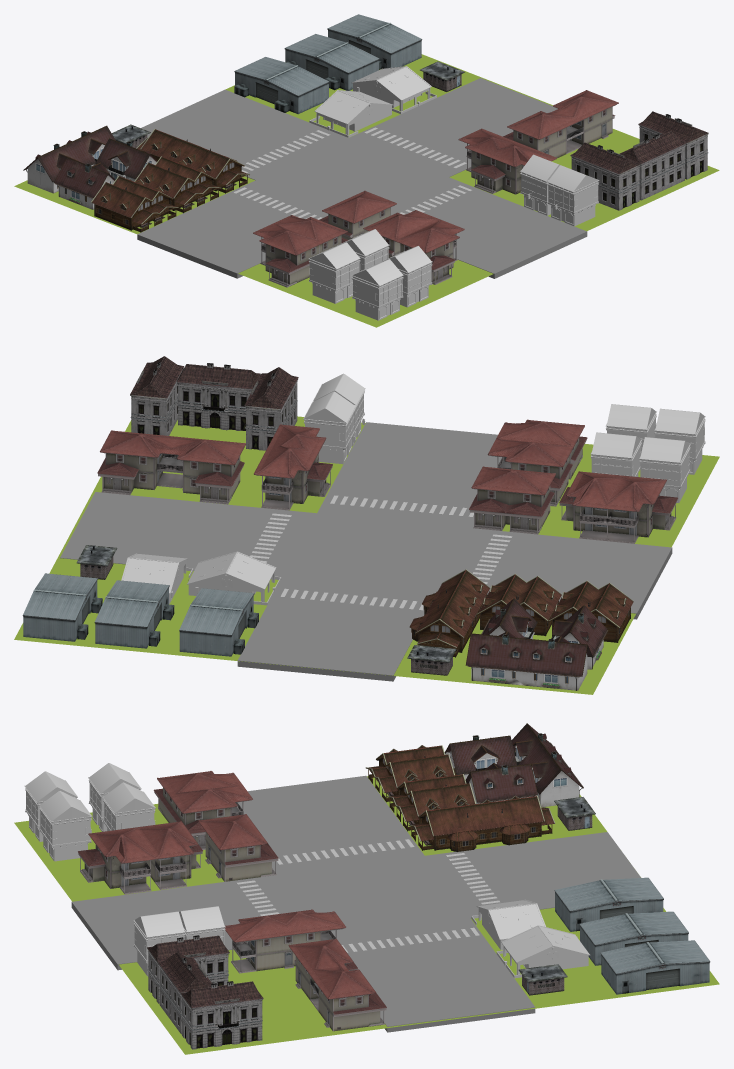
Rendered from street.fbx.
3 views of the same model, one above another, from view 1: azimuth 30°, elevation 25°; view 2: azimuth 150°, elevation 25°; view 3: azimuth 270°, elevation 25° (orthographic). The views are drawn at different scales.
Parts seen in each view (by area): view 1: Line002, Plane001, City_building_026, City_building_038, City_building_007, City_building_022, City_building_034, City_building_011, City_building_004, City_building_023, City_building_010, City_building_014 (+18 smaller); view 2: Line002, Plane001, City_building_026, City_building_038, City_building_033, City_building_034, City_building_022, City_building_037, City_building_016, City_building_007, City_building_023, City_building_011 (+18 smaller); view 3: Line002, Plane001, City_building_022, City_building_014, City_building_026, City_building_017, City_building_034, City_building_023, City_building_038, City_building_007, City_building_037, City_building_011 (+18 smaller).
Part boxes in pixels (x1=…): Line002: x1=137, y1=78, x2=587, y2=278; Plane001: x1=14, y1=54, x2=719, y2=327; City_building_026: x1=503, y1=90, x2=618, y2=158; City_building_038: x1=253, y1=215, x2=348, y2=287; City_building_007: x1=234, y1=57, x2=329, y2=114; City_building_022: x1=363, y1=210, x2=464, y2=284; City_building_034: x1=458, y1=128, x2=556, y2=194; City_building_011: x1=284, y1=34, x2=379, y2=90; City_building_004: x1=91, y1=176, x2=178, y2=232; City_building_023: x1=327, y1=14, x2=422, y2=69; City_building_010: x1=570, y1=142, x2=640, y2=210; City_building_014: x1=136, y1=129, x2=249, y2=193; Line002: x1=60, y1=422, x2=672, y2=681; Plane001: x1=14, y1=416, x2=719, y2=694; City_building_026: x1=97, y1=430, x2=245, y2=504; City_building_038: x1=559, y1=471, x2=678, y2=543; City_building_033: x1=465, y1=631, x2=592, y2=690; City_building_034: x1=254, y1=424, x2=332, y2=510; City_building_022: x1=487, y1=419, x2=587, y2=506; City_building_037: x1=469, y1=466, x2=555, y2=534; City_building_016: x1=177, y1=363, x2=260, y2=430; City_building_007: x1=179, y1=588, x2=258, y2=656; City_building_023: x1=22, y1=573, x2=102, y2=641; City_building_011: x1=94, y1=580, x2=174, y2=648; Line002: x1=71, y1=775, x2=640, y2=1032; Plane001: x1=14, y1=776, x2=719, y2=1054; City_building_022: x1=78, y1=821, x2=202, y2=894; City_building_014: x1=408, y1=795, x2=555, y2=851; City_building_026: x1=288, y1=938, x2=386, y2=1031; City_building_017: x1=180, y1=981, x2=263, y2=1049; City_building_034: x1=225, y1=909, x2=345, y2=973; City_building_023: x1=600, y1=940, x2=710, y2=994; City_building_038: x1=153, y1=771, x2=252, y2=849; City_building_007: x1=554, y1=877, x2=663, y2=931; City_building_037: x1=198, y1=814, x2=278, y2=881; City_building_011: x1=579, y1=911, x2=688, y2=965.
Size of the model in its own units: 12036 by 1125 by 11870.
